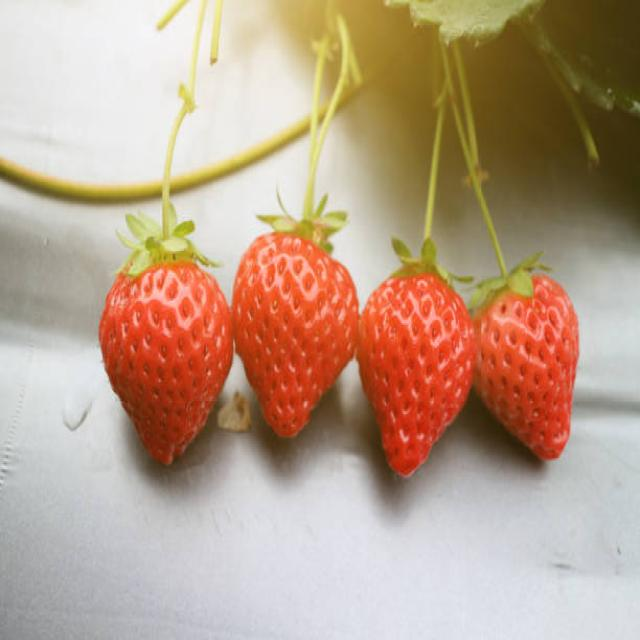Healthy Fruit: (101, 258, 235, 463), (230, 230, 360, 438), (360, 266, 475, 478), (470, 275, 578, 459)
